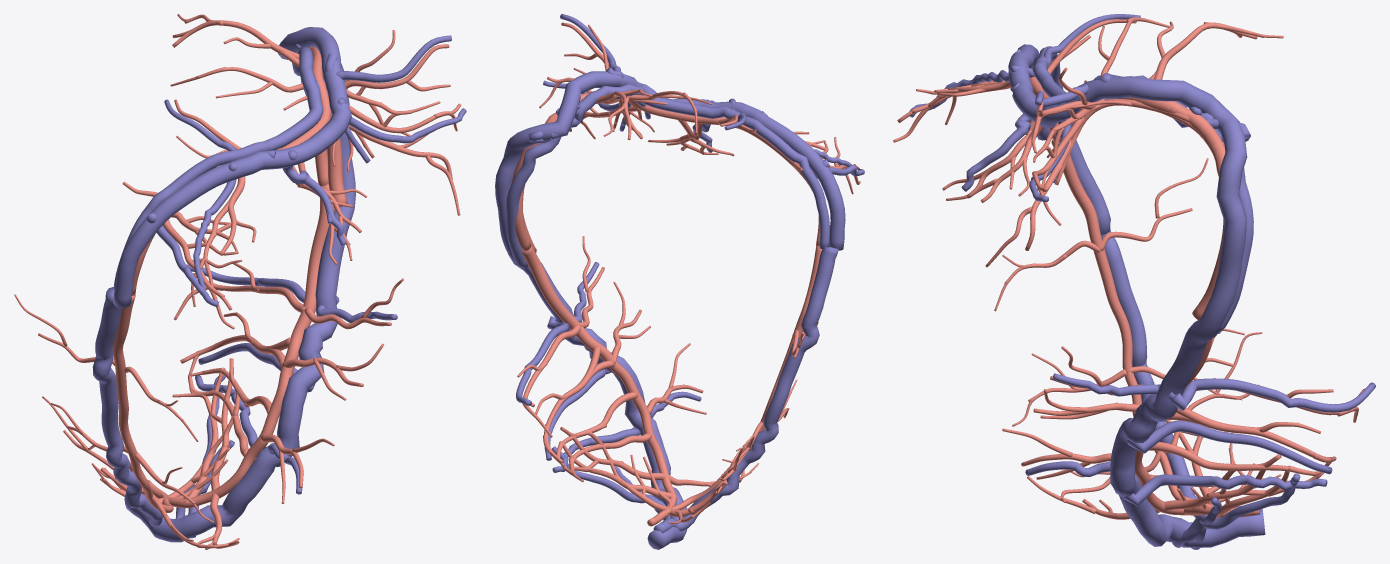
File: vessels_72.glb
3 renders of one model, left to right at view 1: azimuth 30°, elevation 25°; view 2: azimuth 150°, elevation 25°; view 3: azimuth 270°, elevation 25°, orthographic. The views are drawn at different scales.
Visible parts, largest first — view 1: Renderer Node; view 2: Renderer Node; view 3: Renderer Node.
Part boxes in pixels (bbox=[...]): Renderer Node: bbox=[14, 14, 466, 549]; Renderer Node: bbox=[495, 14, 864, 549]; Renderer Node: bbox=[893, 14, 1375, 549].
Bounding box in the file's own units: 95.18 × 124 × 95.68.
